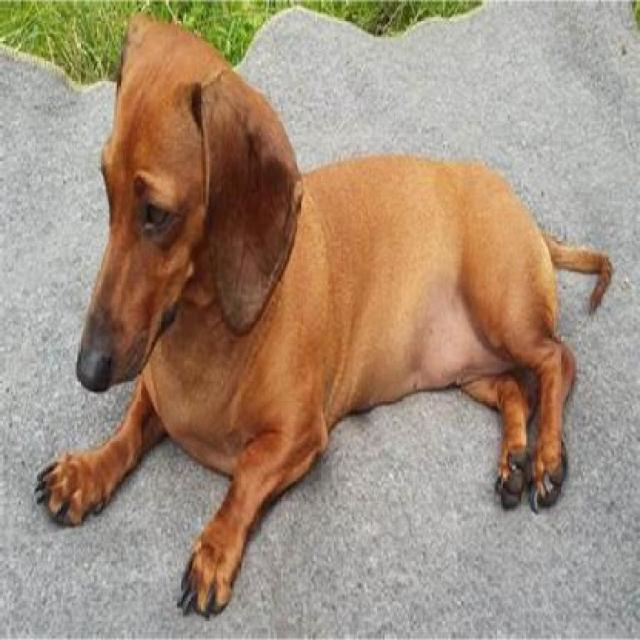Dog: (31, 17, 612, 625)
